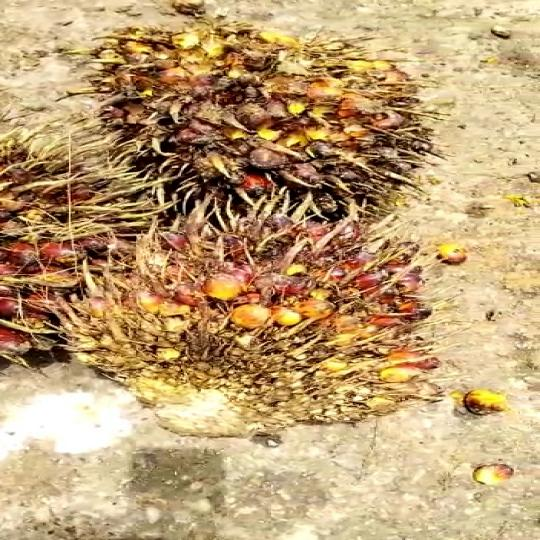masak: (73, 177, 474, 458), (87, 11, 433, 232), (0, 127, 182, 362)
